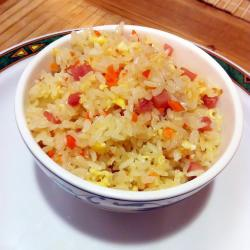rice: (42, 46, 218, 192)
